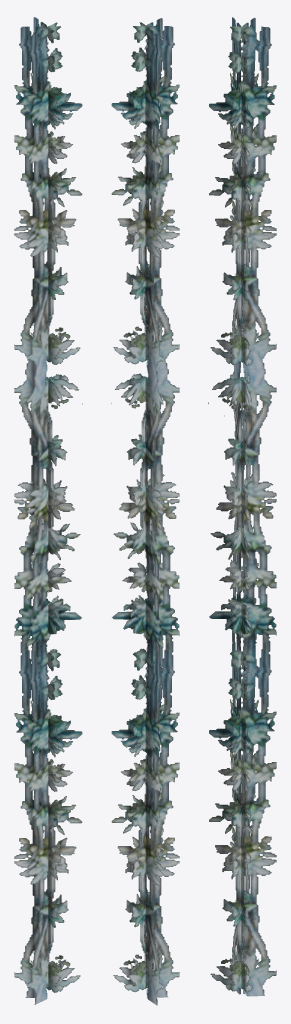
File: Ice_glass05.FBX
3 renders of one model, left to right at view 1: azimuth 30°, elevation 25°; view 2: azimuth 210°, elevation 25°; view 3: azimuth 270°, elevation 25°, orthographic.
Visible parts, largest first — view 1: Plane016; view 2: Plane016; view 3: Plane016.
Boxes of the visible parts, x1=… form: Plane016: x1=14, y1=17, x2=82, y2=1004; Plane016: x1=111, y1=18, x2=179, y2=1005; Plane016: x1=208, y1=17, x2=276, y2=996.
Bounding box in the file's own units: 330 × 5518 × 351.
